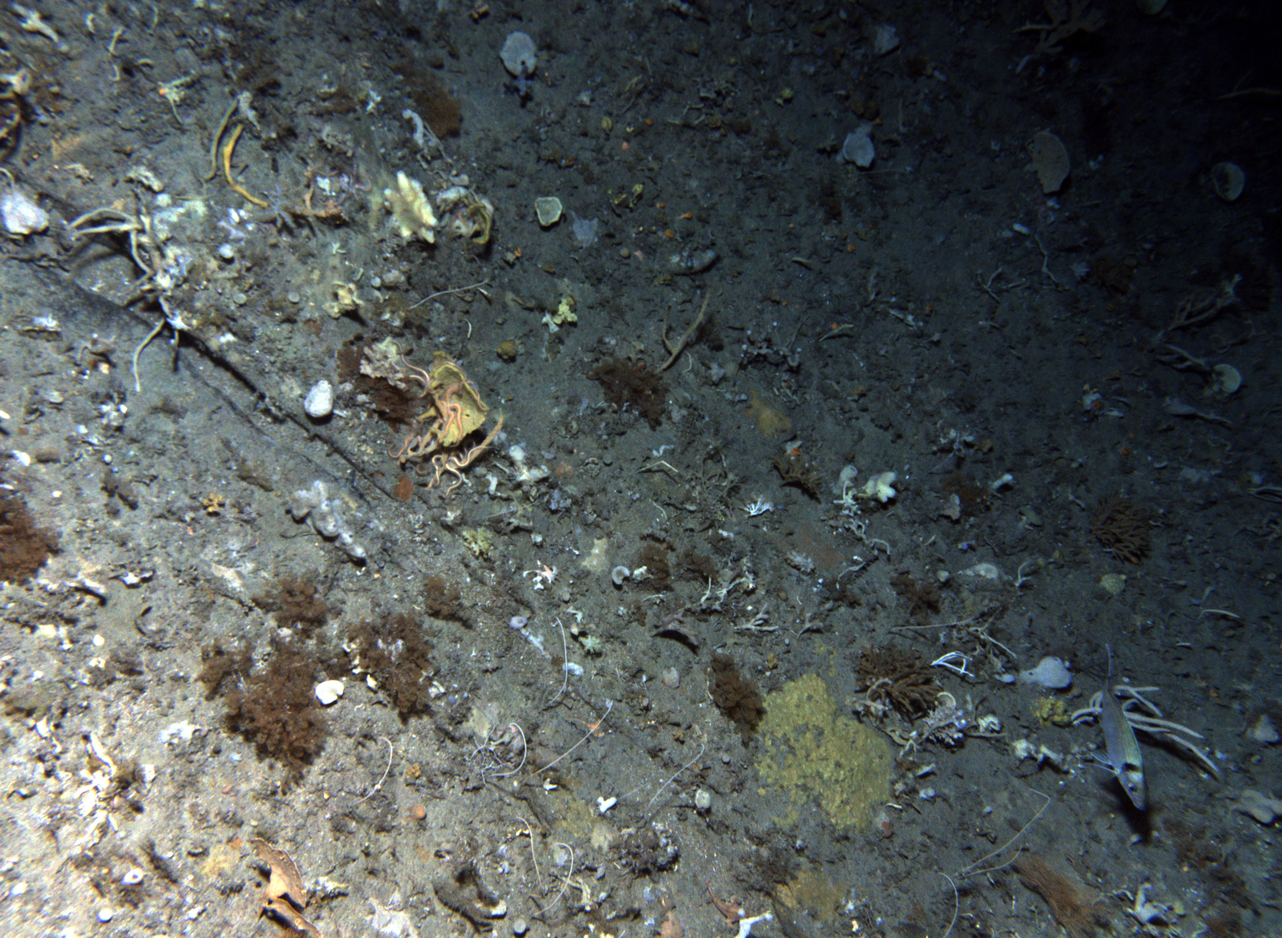Brachionichthyidae: (704, 877, 752, 929)
